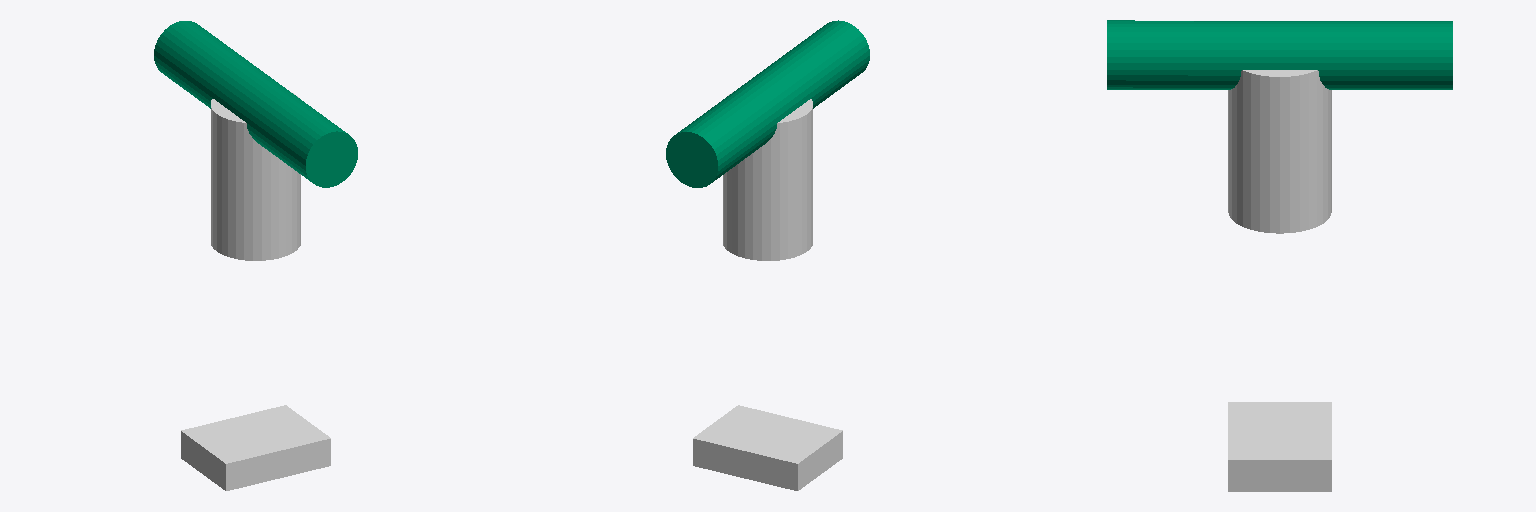
robot.urdf — pepper:
<?xml version="1.0"?>
<robot name="pepper">

  <link name="base_link">
    <visual>
        <origin xyz="0 0 0" rpy="0 0 0"/>
        <geometry>
            <box size="0.4 0.3 0.1"/>
        </geometry>
        <material name="grey">
            <color rgba="0.9 0.9 0.9 1.0"/>
        </material>
    </visual>
    <collision>
        <origin xyz="0 0 0" rpy="0 0 0"/>
        <geometry>
            <box size="0.4 0.3 0.1"/>
        </geometry>
    </collision>
  </link>


  <link name="torso">
    <visual>
        <origin xyz="0 0 0" rpy="0 0 0"/>
        <geometry>
            <cylinder length="0.5" radius="0.15"/>
        </geometry>
        <material name="grey">
            <color rgba="0.9 0.9 0.9 1.0"/>
        </material>
    </visual>
    <collision>
        <origin xyz="0 0 0" rpy="0 0 0"/>
        <geometry>
            <cylinder length="0.5" radius="0.15"/>
        </geometry>
    </collision>

    </link>

    <joint name="base_to_torso" type="fixed">
        <parent link="base_link"/>
        <child link="torso"/>
        <origin xyz="0 0 1" rpy="0 0 0"/>
    </joint>

    <!-- BRAZO QUE ROTA -->
    <link name="brazo">
        <visual>
            <origin xyz="0 0 0" rpy="1.57 0 0"/>
        
         <geometry>
            <cylinder length="1" radius="0.1"/>
        </geometry>
        </visual>
        <collision>
            <origin xyz="0 0 0" rpy="1.57 0 0"/>
            <geometry>
                <cylinder length="1" radius="0.1"/>
            </geometry>
        </collision>
    </link>
    <joint name="torso_to_brazo" type="revolute">
        <parent link="torso"/>
        <child link="brazo"/>
        <origin xyz="0 0 0.25"/>
        <axis xyz="0 0 1"/>
        <limit effort="1000" velocity="0.5" lower="0" upper="3.14"/>
    </joint>




</robot>

--- What the picture shows (computed from the rendered views, not written in the file) ---
Views: 3 orthographic renders of the robot side by side, from view 1: azimuth 30°, elevation 25°; view 2: azimuth 150°, elevation 25°; view 3: azimuth 270°, elevation 25°.
Model pepper with 3 links and 2 joints (1 revolute, 1 fixed), rooted at base_link, posed all joints at 0.
Links seen in each view (by area): view 1: brazo, torso, base_link; view 2: brazo, torso, base_link; view 3: brazo, torso, base_link.
Boxes of the visible links, x1,y1,x2,y2 form: brazo: (154, 21, 357, 187); torso: (211, 92, 300, 260); base_link: (181, 405, 330, 490); brazo: (666, 20, 869, 187); torso: (723, 92, 812, 260); base_link: (693, 405, 842, 490); brazo: (1107, 20, 1452, 89); torso: (1228, 70, 1331, 233); base_link: (1228, 402, 1331, 491).
Size in the robot's own frame: 0.4 by 1 by 1.4 metres.
Geometry: primitives only (box / cylinder / sphere), no mesh files.